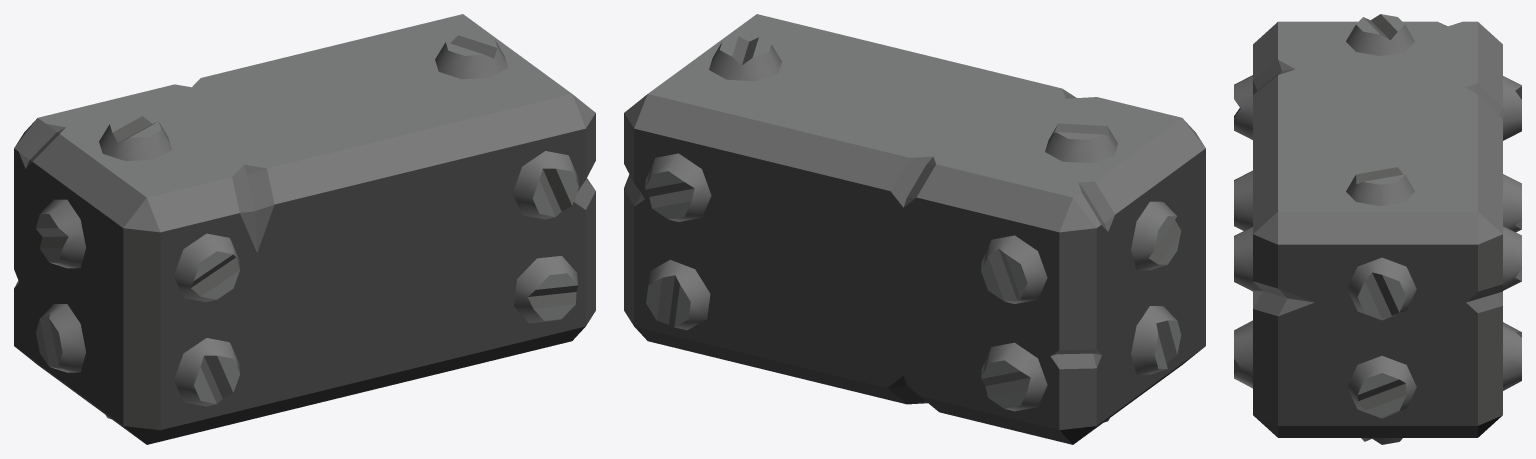
The model's file is m_kub_metalOld_brick.FBX.
3 renders of one model, left to right at view 1: azimuth 30°, elevation 25°; view 2: azimuth 150°, elevation 25°; view 3: azimuth 270°, elevation 25°, orthographic. The views are drawn at different scales.
Parts seen in each view (by area): view 1: m_kub_metalOld_brick; view 2: m_kub_metalOld_brick; view 3: m_kub_metalOld_brick.
Part boxes in pixels (x1,y1,x2,y2): m_kub_metalOld_brick: (14,14,595,444); m_kub_metalOld_brick: (624,14,1205,444); m_kub_metalOld_brick: (1234,14,1521,444).
Bounding box in the file's own units: 2.15 × 1.15 × 1.15.
